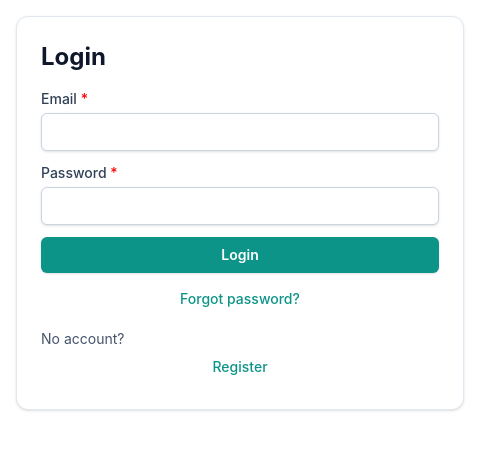
LoginPage › surfaces the device-block countdown when /login returns 403 + Retry-After
Type "fixture@example.test" into the field labelled "Email *". click: (240, 132)
box: [41,113,439,151]
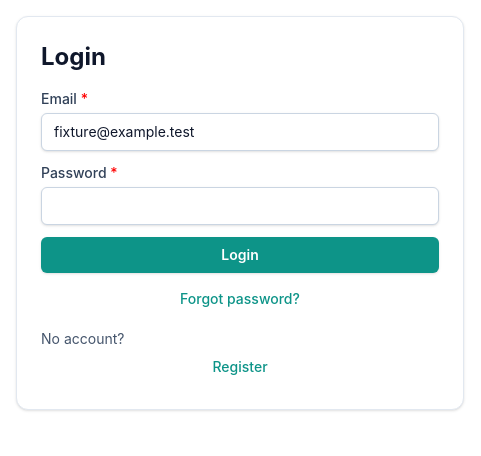
Type "SecurePass123!" into the password field labelled "Password *". click: (240, 206)
box: [41,187,439,225]
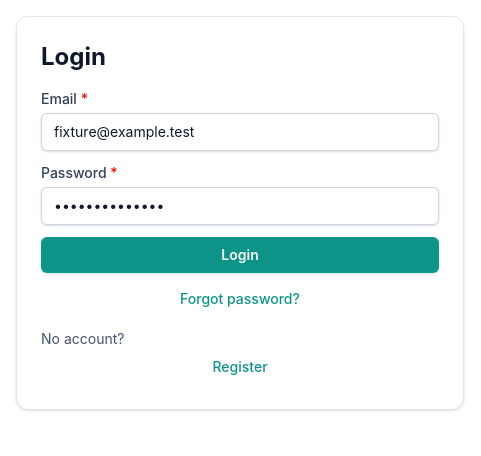
Click the button "Login". click: click(240, 255)
box: [41,237,439,273]
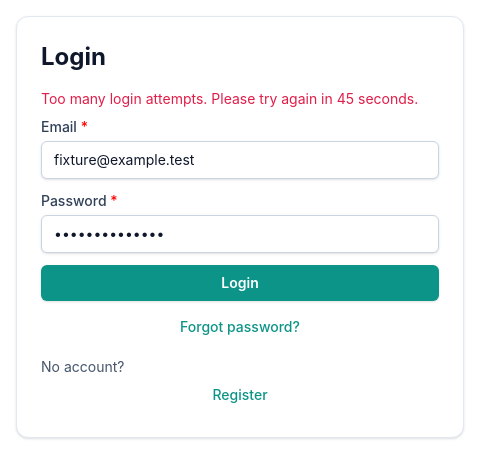
Check: the message with test id "auth-rate-limit" shows "in 45 seconds", box [321,90,414,107]
